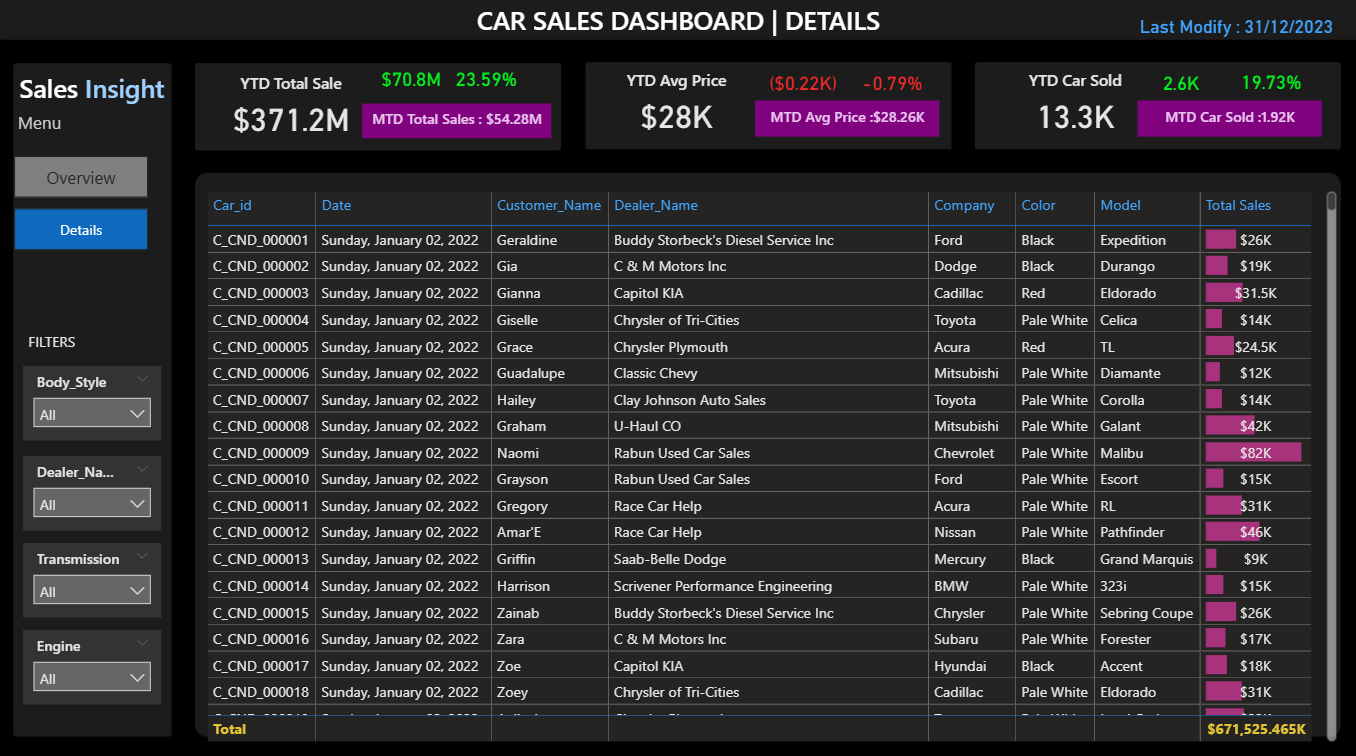

The page's visual inventory and layout, read from the dashboard file:
{"tool":"powerbi","page":{"name":"Details","canvas":[1280,720],"ordinal":1},"visuals":[{"type":"card","title":"YTD Total Sale","fields":{"Values":["car_data.YTD_TOTAL_SALE"]},"box":[195.4,70.3,162.6,65.6],"z":0},{"type":"card","title":"YTD Total Sale","fields":{"Values":["car_data.SALES_DIFFRENCE"]},"box":[345.4,56.3,89.1,42.2],"z":1000},{"type":"card","title":"YTD Total Sale","fields":{"Values":["car_data.YOY SALES DIFF %"]},"box":[415.8,56.3,89.1,42.2],"z":2000},{"type":"card","title":"YTD Total Sale","fields":{"Values":["car_data.MTD KPI"]},"box":[343.9,100,178.2,32.8],"z":3000},{"type":"card","title":"YTD Avg Price","fields":{"Values":["car_data.AVG_PRICE_YTD"]},"box":[558,67.2,162.6,65.6],"z":4000},{"type":"card","title":"YTD Total Sale","fields":{"Values":["car_data.AVG_PRICE_DIFF"]},"box":[712.8,61,89.9,41.7],"z":5000},{"type":"card","title":"YTD Total Sale","fields":{"Values":["car_data.YOY_AVG_PRICE_GROWTH"]},"box":[797.9,61,88.3,41.7],"z":6000},{"type":"card","title":"YTD Total Sale","fields":{"Values":["car_data.MTD_TOTAL_SALE_FORMAT"]},"box":[712.8,97.9,173.4,33.7],"z":7000},{"type":"card","title":"YTD Car Sold","fields":{"Values":["car_data.YTD_CAR_SOLD"]},"box":[932.7,67.4,162.1,65.8],"z":8000},{"type":"card","title":"YTD Total Sale","fields":{"Values":["car_data.CAR SOLD DIFFRENCE"]},"box":[1069.2,59.4,89.9,43.3],"z":9000},{"type":"card","title":"YTD Total Sale","fields":{"Values":["car_data.CAR SOLD GROWTH %"]},"box":[1159.1,59.4,78.7,41.7],"z":10000},{"type":"card","title":"YTD Total Sale","fields":{"Values":["car_data.MTD_CAR_SOLD_FORMAT"]},"box":[1072.4,97.9,173.4,33.7],"z":11000},{"type":"textbox","box":[446.7,0,448.3,51.7],"z":12000},{"type":"slicer","fields":{"Values":["car_data.Body_Style"]},"box":[25,346.7,130,70],"z":13000},{"type":"slicer","fields":{"Values":["car_data.Dealer_Name"]},"box":[25,431.7,130,70],"z":14000},{"type":"slicer","fields":{"Values":["car_data.Transmission"]},"box":[25,513.3,130,70],"z":15000},{"type":"slicer","fields":{"Values":["car_data.Engine"]},"box":[25,595,130,70],"z":16000},{"type":"textbox","box":[25,308.3,65,38.3],"z":17000},{"type":"tableEx","fields":{"Values":["car_data.Car_id","car_data.Date","car_data.Customer_Name","car_data.Dealer_Name","car_data.Company","car_data.Color","car_data.Model","car_data.Price_$ "]},"box":[193.3,178.3,1071.7,526.7],"z":18000},{"type":"textbox","box":[16.7,63.3,155,51.7],"z":19000},{"type":"textbox","box":[15,101.7,65,38.3],"z":20000},{"type":"pageNavigator","box":[16.7,150,126.7,88.3],"z":21000},{"type":"card","fields":{"Values":["car_data.MAX DATE FORMAT"]},"box":[1066.7,8.3,196.7,40],"z":21001}]}

Visuals, with their boxes in screenshot pixels (x1, y1, x2, y2), scaled from the page's 1280x720 canvas onto the 1356x756 screenshot:
"YTD Total Sale" card: detection(207, 74, 379, 143)
"YTD Total Sale" card: detection(366, 59, 460, 103)
"YTD Total Sale" card: detection(440, 59, 535, 103)
"YTD Total Sale" card: detection(364, 105, 553, 139)
"YTD Avg Price" card: detection(591, 71, 763, 139)
"YTD Total Sale" card: detection(755, 64, 850, 108)
"YTD Total Sale" card: detection(845, 64, 939, 108)
"YTD Total Sale" card: detection(755, 103, 939, 138)
"YTD Car Sold" card: detection(988, 71, 1160, 140)
"YTD Total Sale" card: detection(1133, 62, 1228, 108)
"YTD Total Sale" card: detection(1228, 62, 1311, 106)
"YTD Total Sale" card: detection(1136, 103, 1320, 138)
textbox: detection(473, 0, 948, 54)
slicer - car_data.Body_Style: detection(26, 364, 164, 438)
slicer - car_data.Dealer_Name: detection(26, 453, 164, 527)
slicer - car_data.Transmission: detection(26, 539, 164, 612)
slicer - car_data.Engine: detection(26, 625, 164, 698)
textbox: detection(26, 324, 95, 364)
tableEx - car_data.Car_id x car_data.Date: detection(205, 187, 1340, 740)
textbox: detection(18, 66, 182, 121)
textbox: detection(16, 107, 85, 147)
pageNavigator: detection(18, 158, 152, 250)
card - car_data.MAX DATE FORMAT: detection(1130, 9, 1338, 51)
